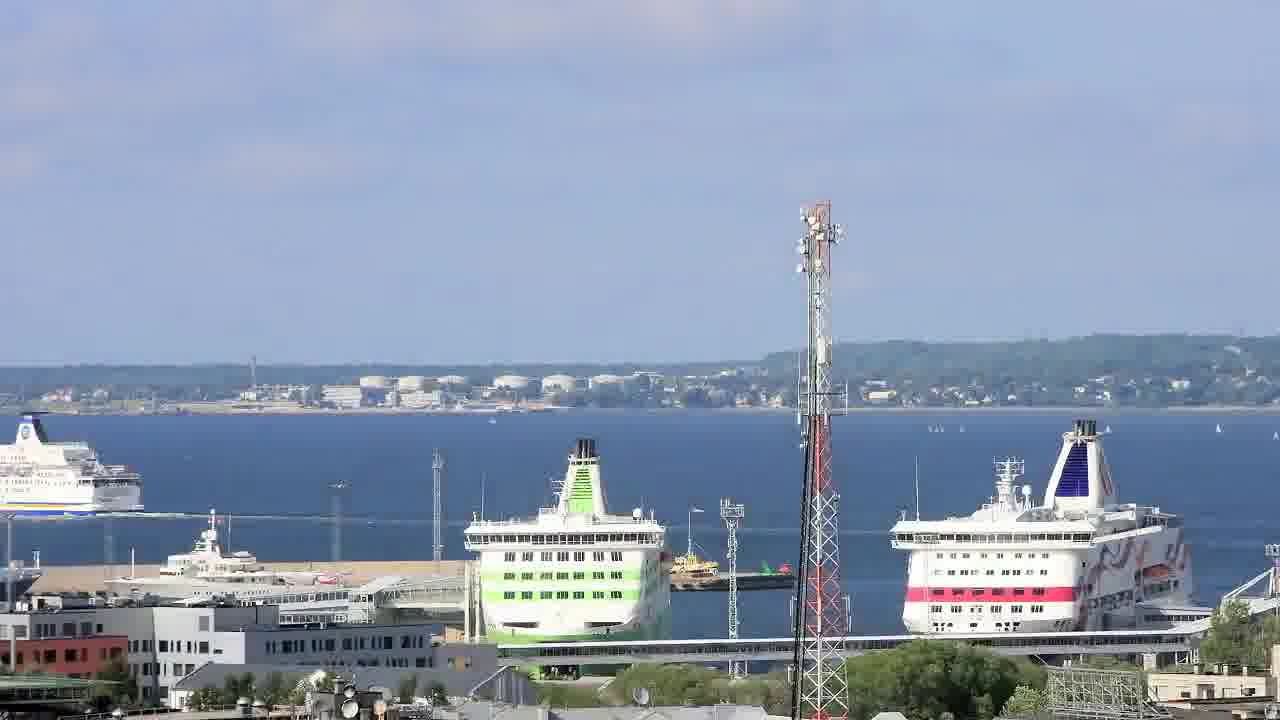type-3: (868, 415, 1225, 638), (436, 434, 694, 670), (92, 517, 347, 601), (0, 403, 158, 521)
